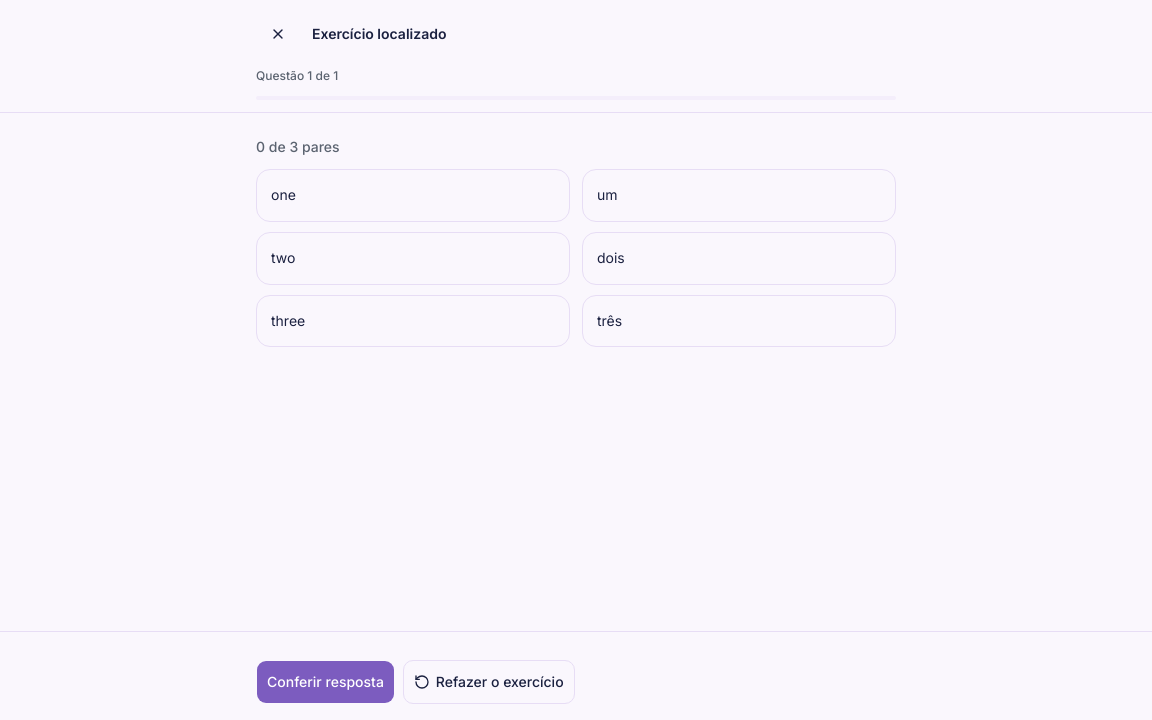
it: DrillShell com MATCH_CLICK imediato › integra incorreto e 429, preserva o candidato e permite retry sem persistir
Click the button with test id "match-entry-left-l1".
click(283, 194)  # box x1=256 y1=169 x2=570 y2=222
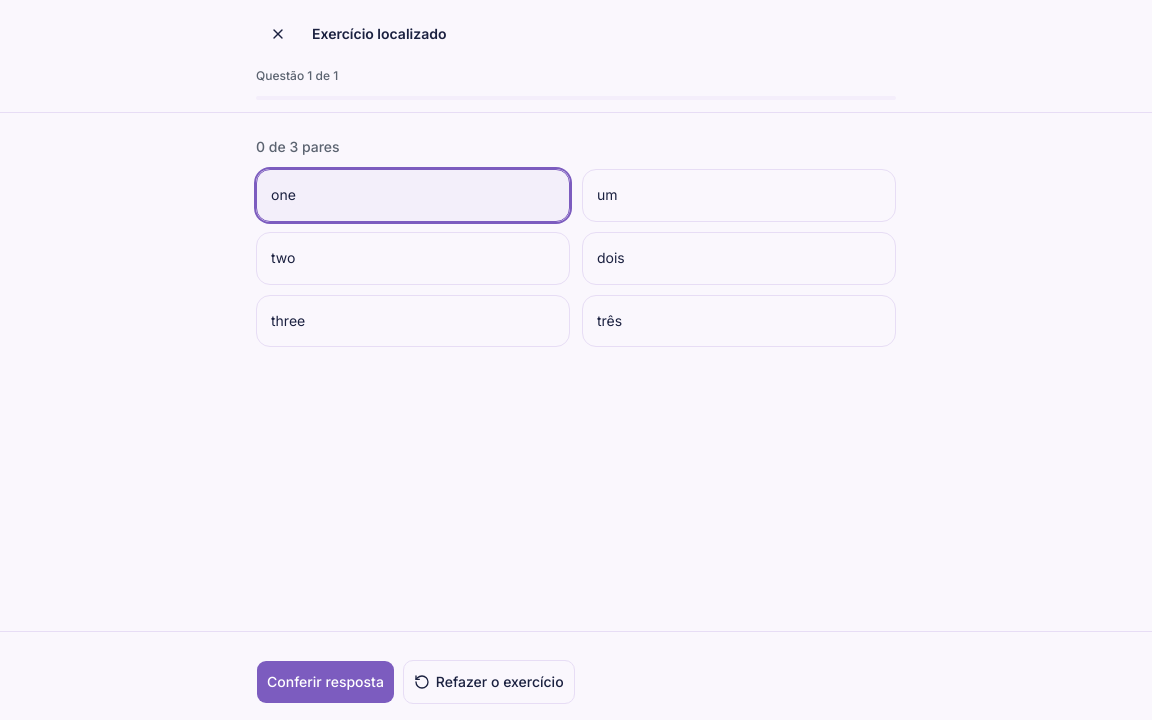
Click the button with test id "match-entry-right-r2".
click(611, 257)  # box x1=582 y1=232 x2=896 y2=285
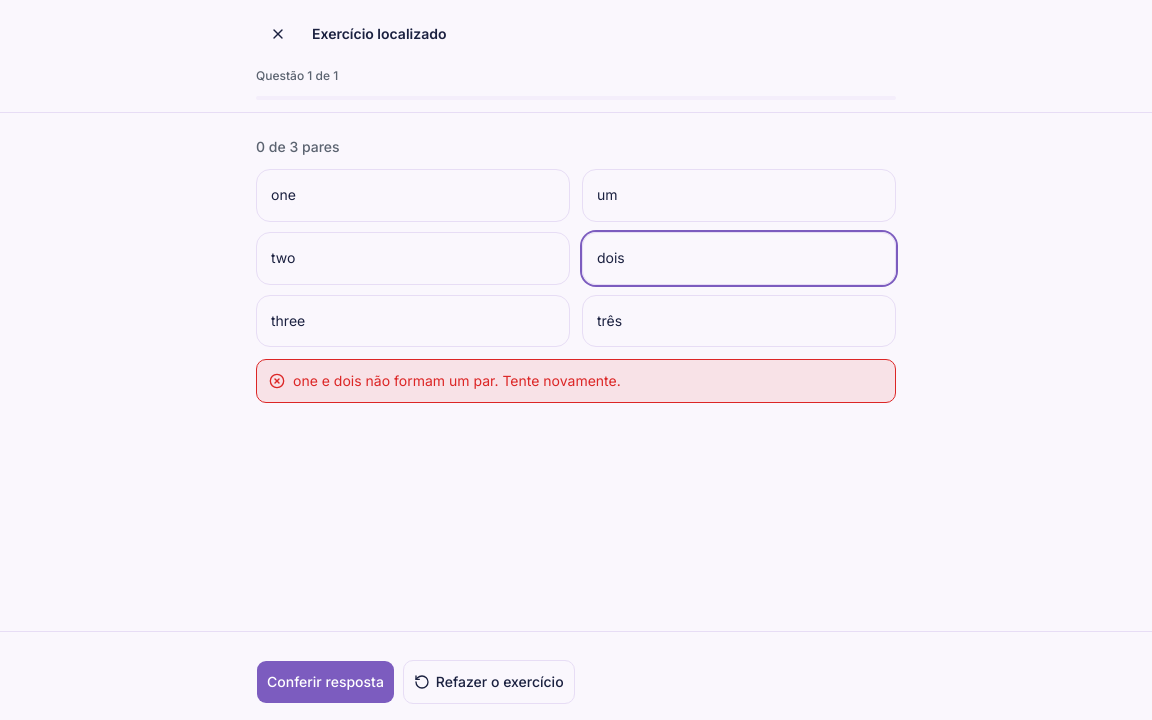
Expected: the text "0 de 3 pares" is shown, x1=256 y1=138 x2=340 y2=155
Now the message shows "não formam um par", box x1=293 y1=372 x2=621 y2=389
Click the button with test id "match-entry-left-l1".
click(283, 194)  # box x1=256 y1=169 x2=570 y2=222
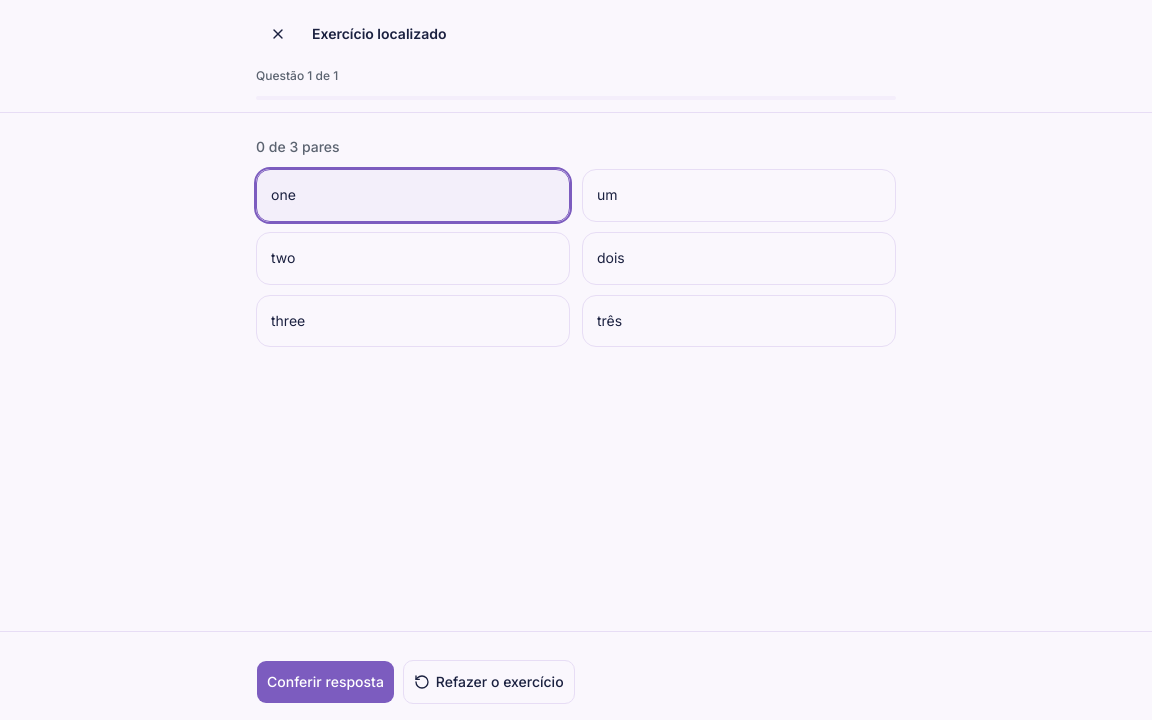
Click the button with test id "match-entry-right-r1".
click(607, 194)  # box x1=582 y1=169 x2=896 y2=222
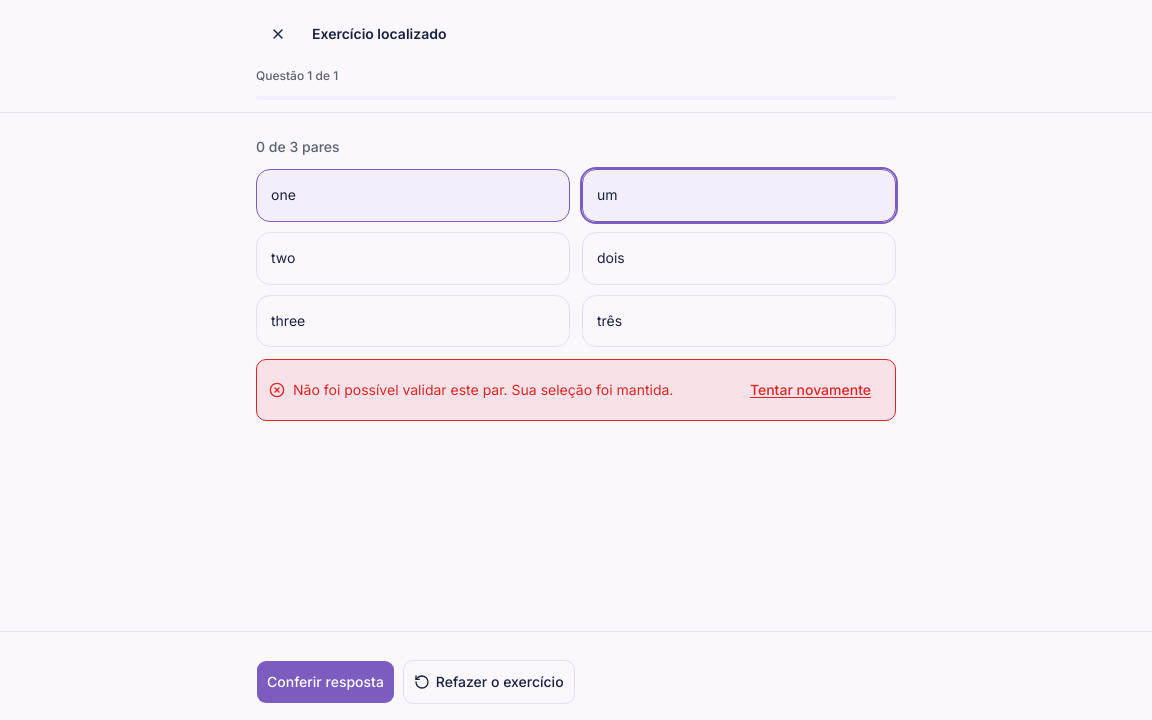
Now the message shows "seleção foi mantida", box x1=293 y1=381 x2=673 y2=398
Click the button "Tentar novamente".
click(810, 390)  # box x1=738 y1=368 x2=883 y2=412
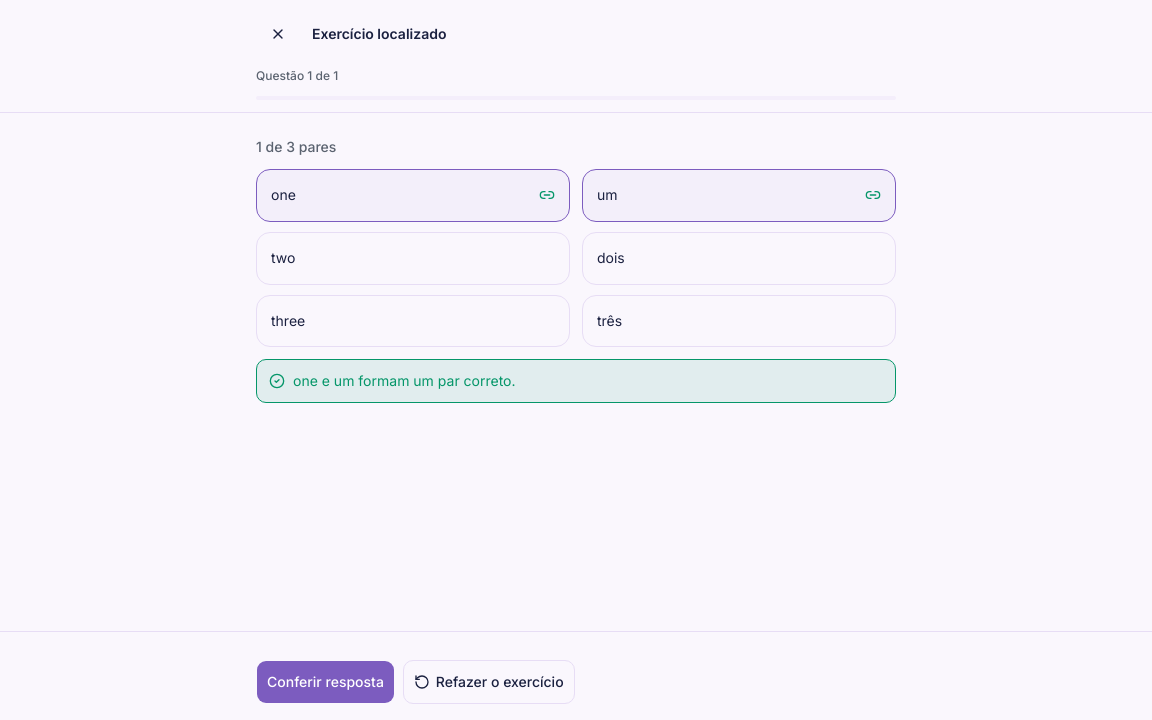
Now the text "1 de 3 pares" is shown, box x1=256 y1=138 x2=336 y2=155
